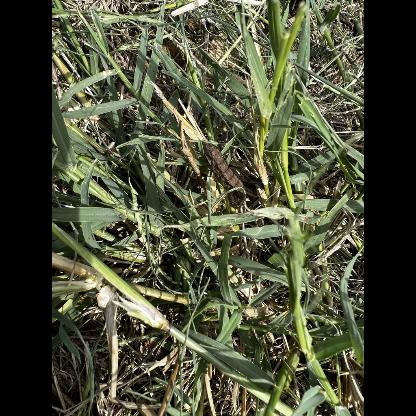Fall Armyworm Larvae: (194, 139, 245, 211)
